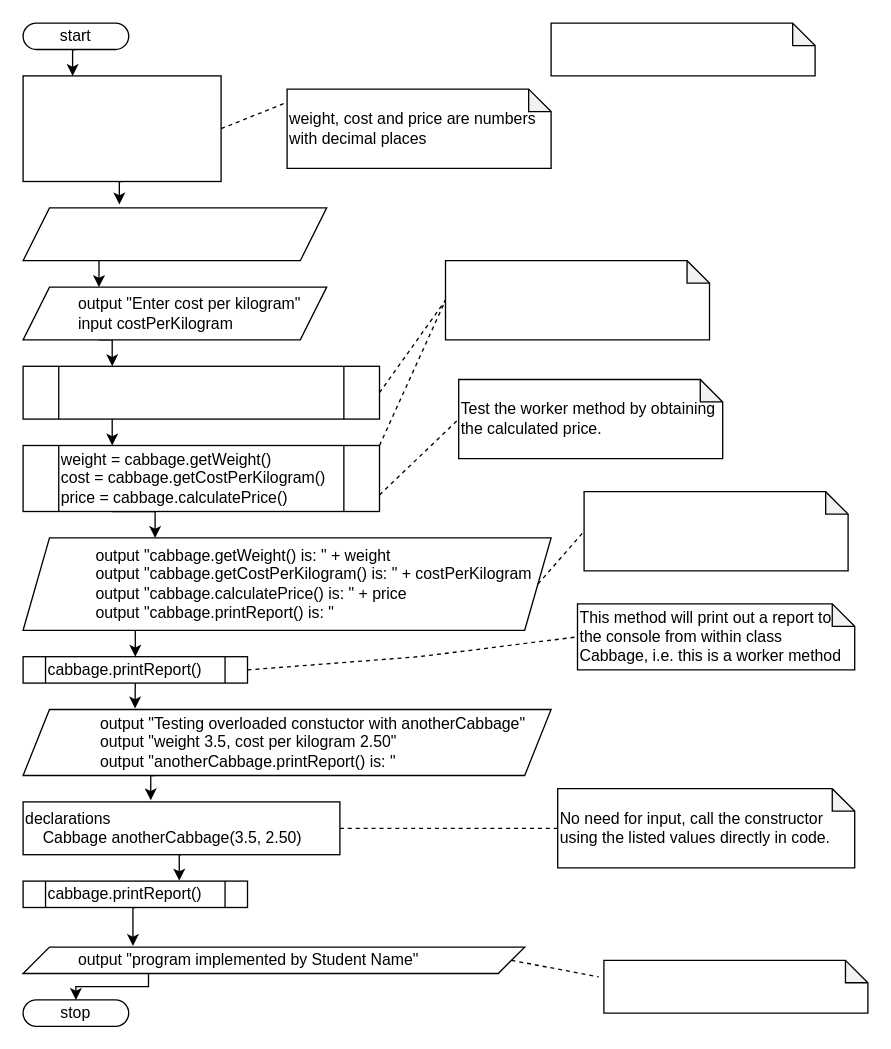
Some shapes in this 891 by 1049 pixel diagram are drawn without their labels. Each missing label, with the centre of its shape:
cabbage.setWeight(weight) cabbage.setCostPerKilogram(cost): (201,392)
Change "Student Name" to your name.: (735,986)
declarations Cabbage cabbage num weight num cost num price: (121,128)
Flowchart by Stanley Pieda: (682,49)
output "Enter weight" input weight: (174,234)
Output results so they can be checked on the console: (715,530)
Set and get the weight and cost to test setters and getters of the class.: (577,299)
